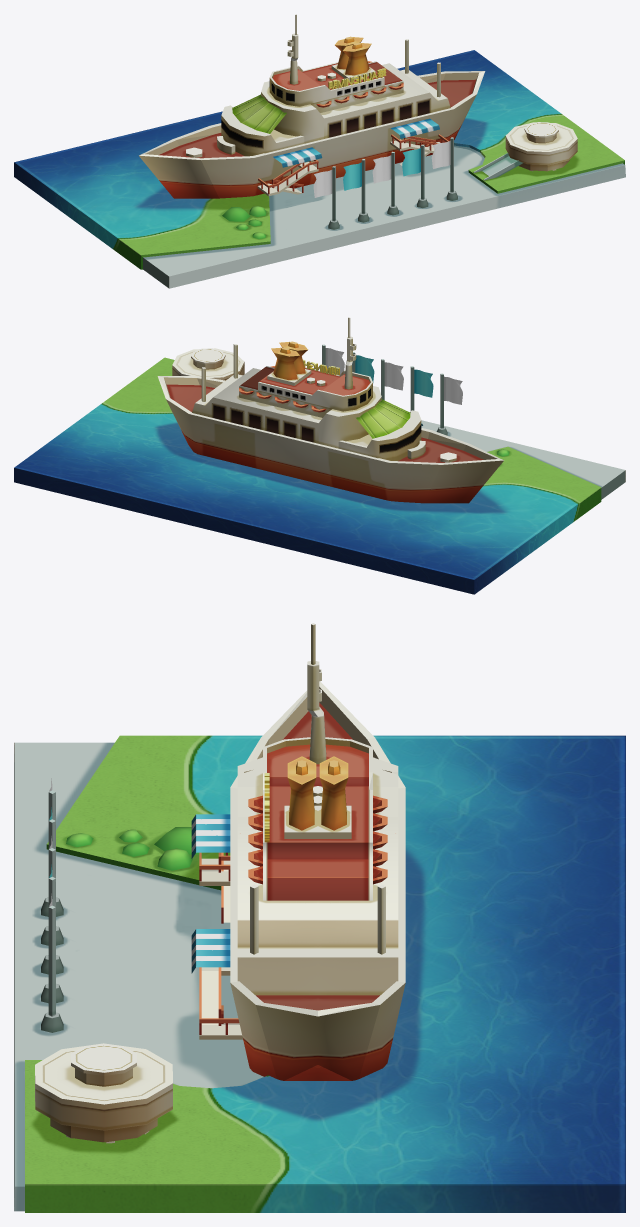
File: lunchuan.FBX
The picture shows the model from 3 angles, top to bottom: view 1: azimuth 30°, elevation 25°; view 2: azimuth 150°, elevation 25°; view 3: azimuth 270°, elevation 25°; orthographic projection. The views are drawn at different scales.
Parts seen in each view (by area): view 1: lunchuan; view 2: lunchuan; view 3: lunchuan.
Boxes of the visible parts, x1,y1,x2,y2 form: lunchuan: (14,14,625,288); lunchuan: (14,317,625,594); lunchuan: (14,623,625,1212).
Size of the model in its own units: 3433 by 1211 by 1982.
Materials: 1 (1 with a texture image).
